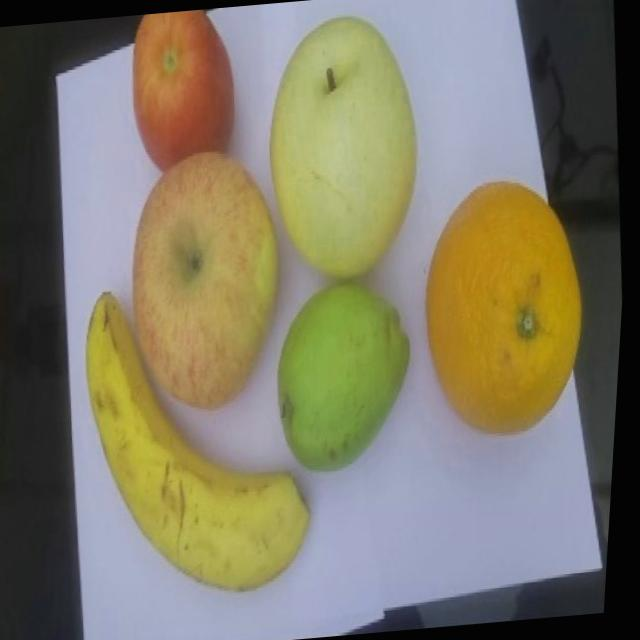Apple: (116, 146, 303, 417), (125, 7, 244, 182)
Banana: (72, 272, 339, 606)
Orange: (409, 170, 600, 447)
